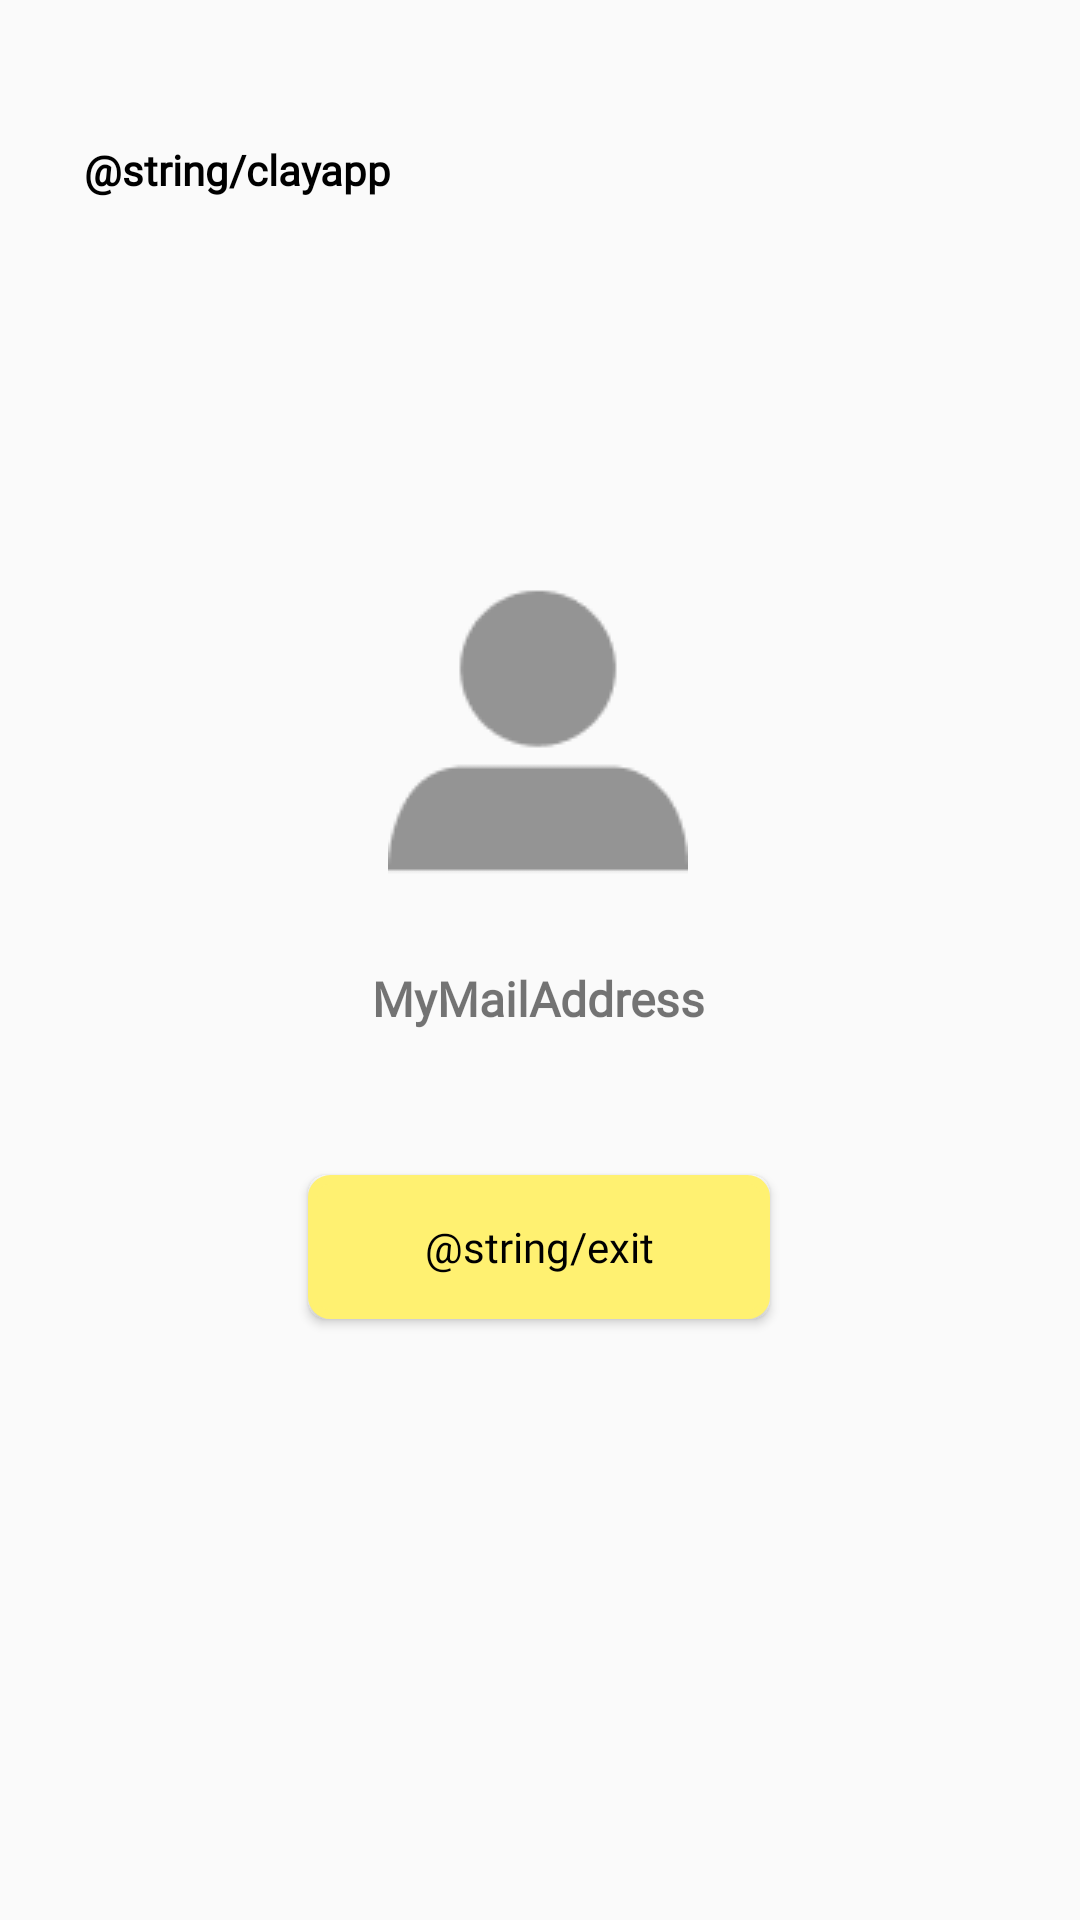

Where icons sit on this 1080w x 1920h app screen, as (x1, y1, x2, y2):
profile: (388, 590, 688, 871)
